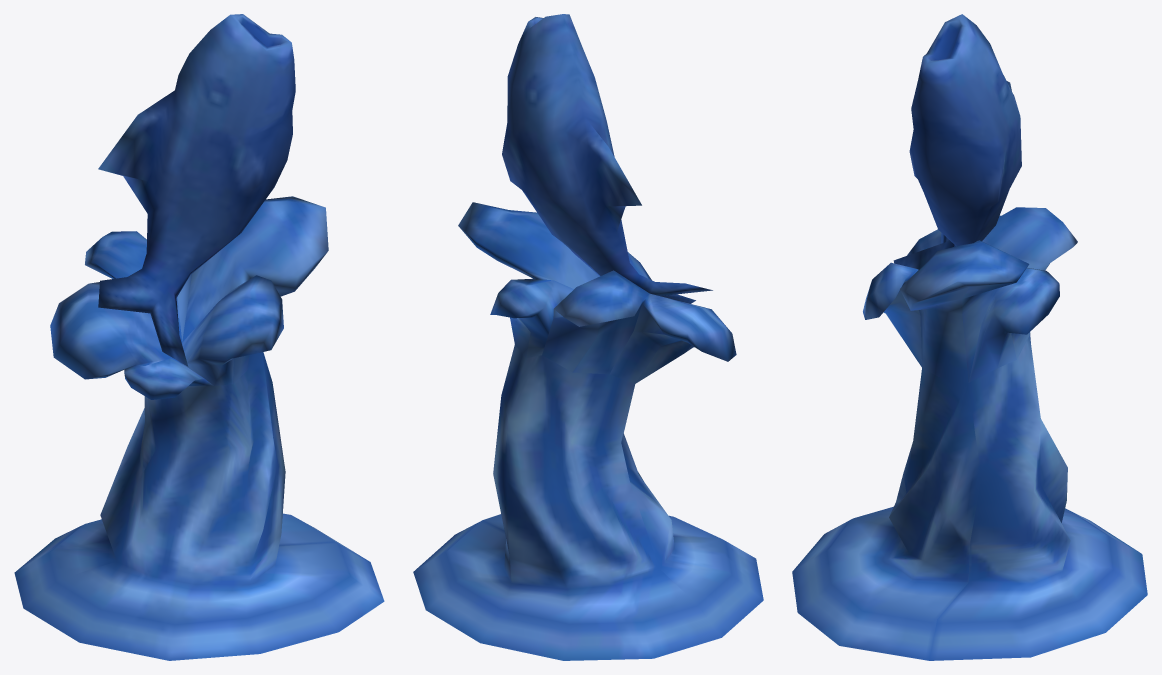
The model's file is int_sgn_Pisces.dae.
The picture shows the model from 3 angles, left to right: view 1: azimuth 30°, elevation 25°; view 2: azimuth 150°, elevation 25°; view 3: azimuth 270°, elevation 25°; orthographic projection. The views are drawn at different scales.
Visible parts, largest first — view 1: int_sgn_Pisces; view 2: int_sgn_Pisces; view 3: int_sgn_Pisces.
Boxes of the visible parts, x1=… form: int_sgn_Pisces: x1=14, y1=14, x2=384, y2=660; int_sgn_Pisces: x1=413, y1=14, x2=763, y2=660; int_sgn_Pisces: x1=792, y1=14, x2=1147, y2=660.
Bounding box in the file's own units: 27.59 × 48.47 × 26.74.
Materials: 1 (1 with a texture image).
